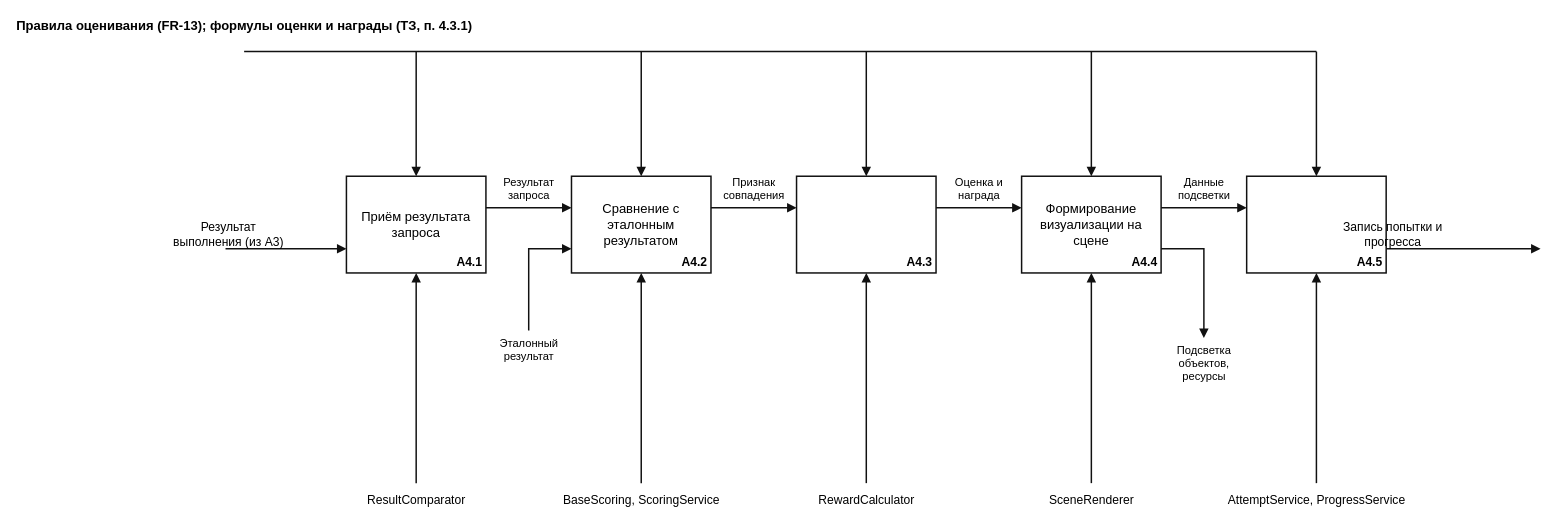
The diagram is 1564 pixels wide and 525 high, and some of its shapes have lost their labels. Here are the shapes that lost their labels. From the top down, the box of each, then its label:
(795, 175, 936, 273): Расчёт оценки, звёзд и награды
(1245, 175, 1386, 273): Сохранение попытки и прогресса
